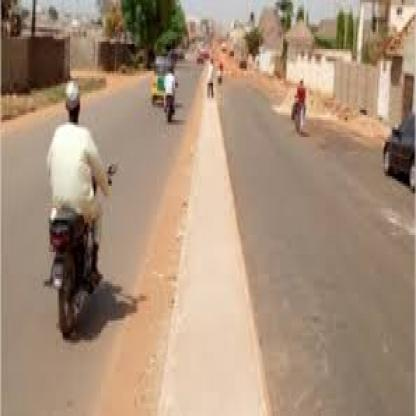car: (376, 103, 416, 200), (146, 37, 182, 125)
